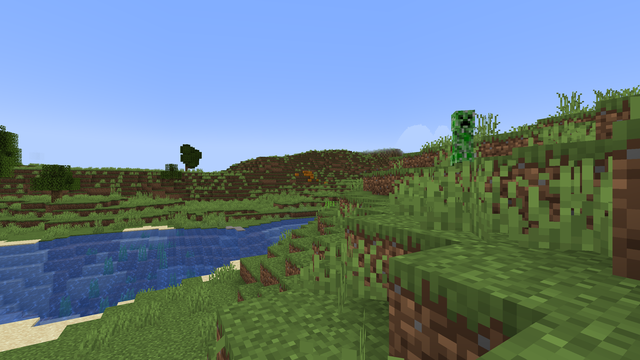creepers: (447, 106, 478, 154)
